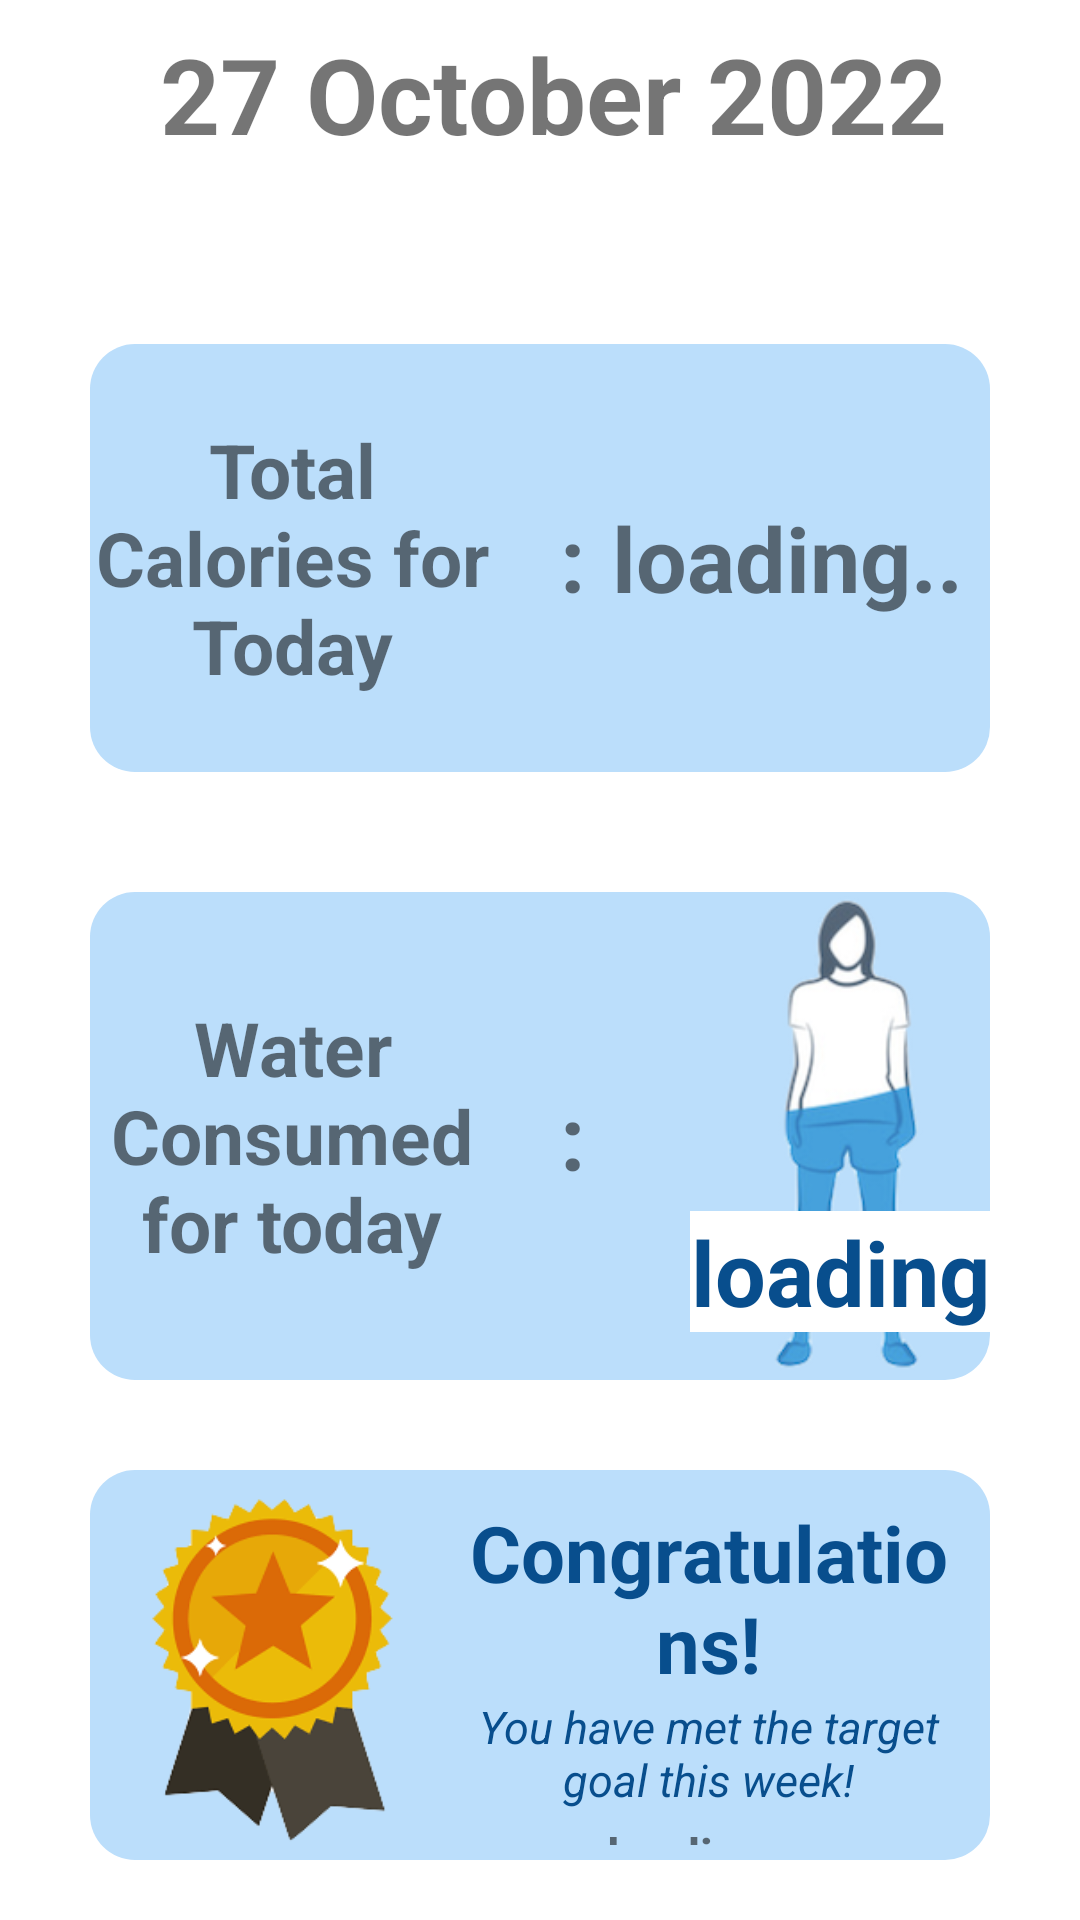

Icons on this 1080px×1920px Android screen, each with the point to tap as (x,y):
rewards: (272,1669)
